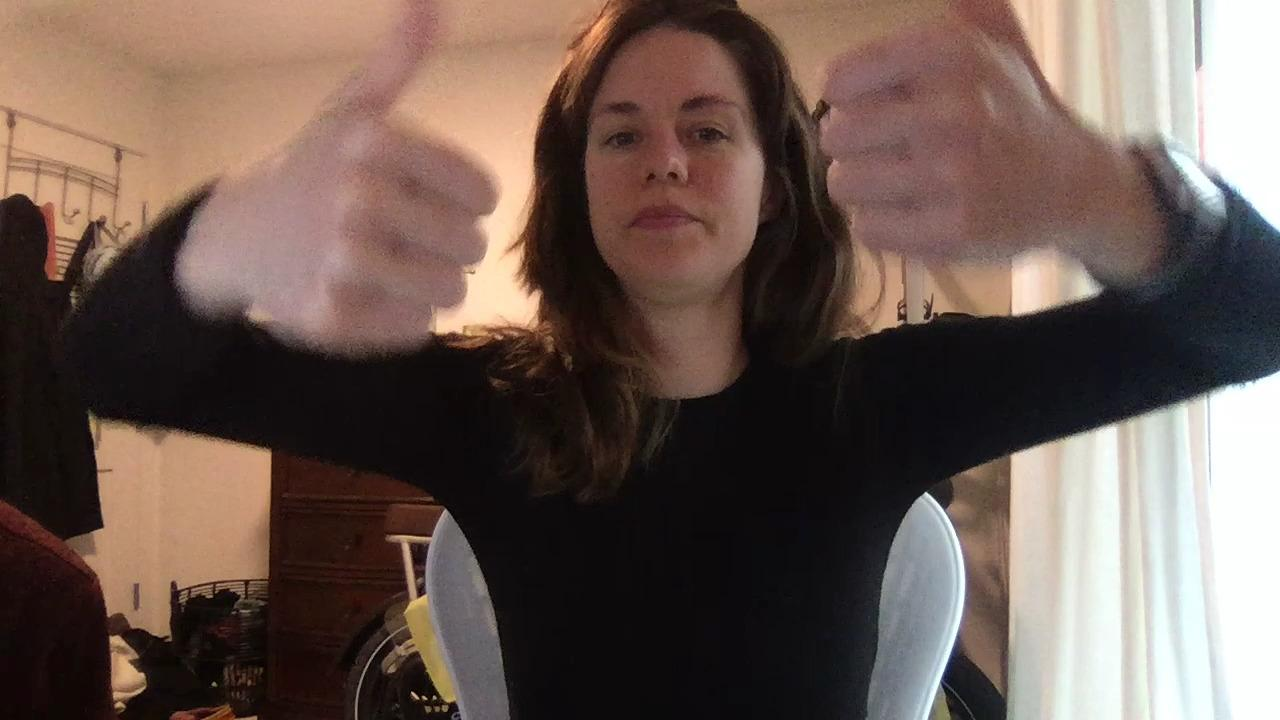face: (587, 26, 766, 295)
